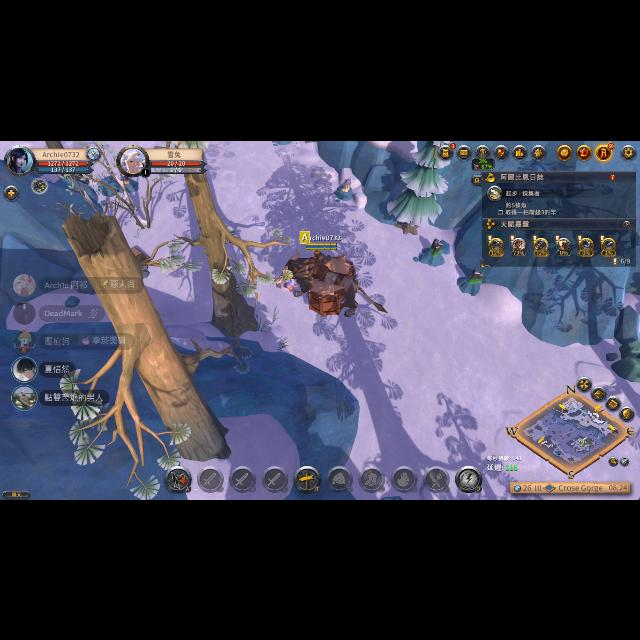mine_ii: (336, 177, 354, 201)
mine_iii: (456, 266, 486, 294), (422, 236, 448, 264)
